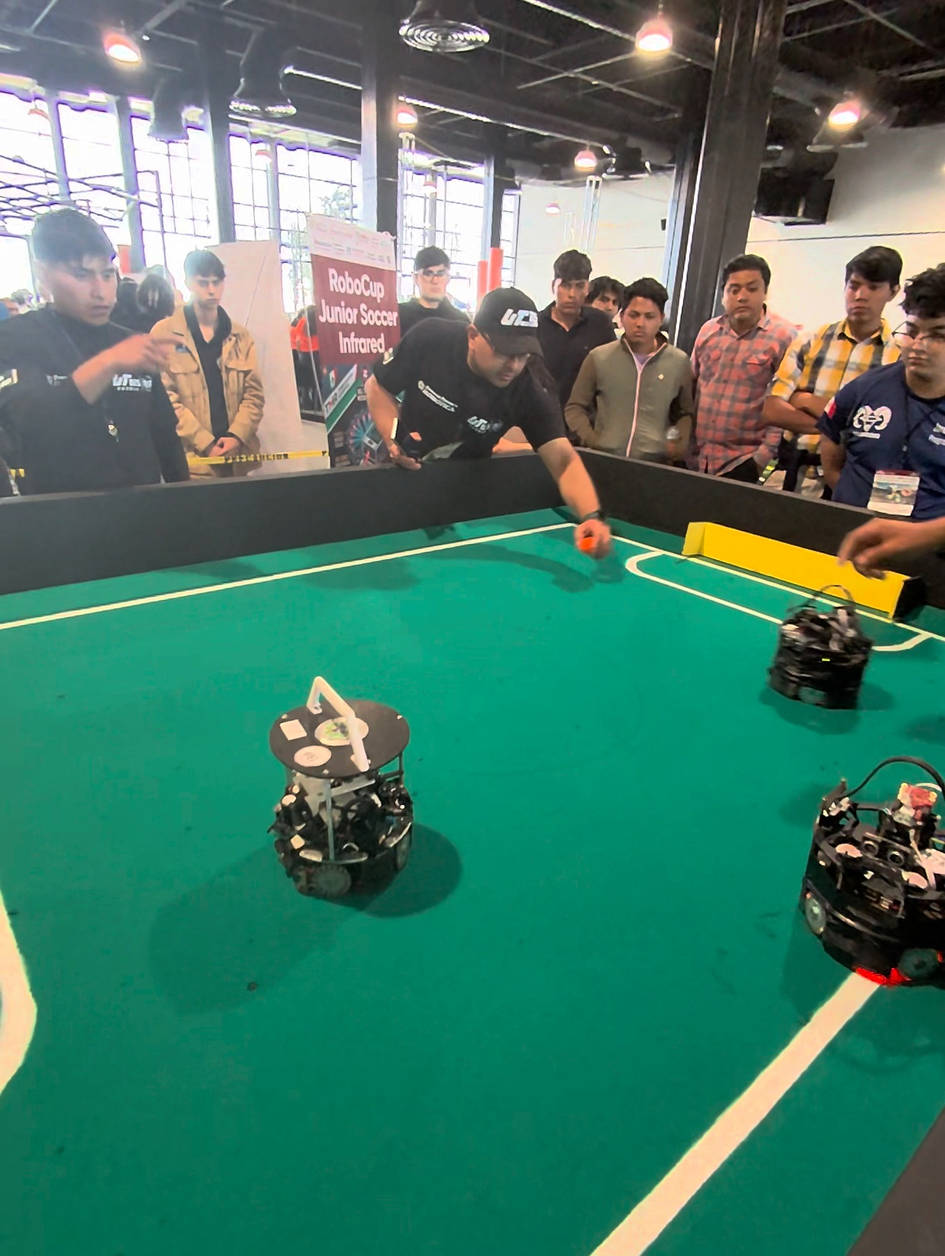Robot: (259, 670, 428, 922), (798, 741, 942, 1001), (771, 574, 878, 721)
